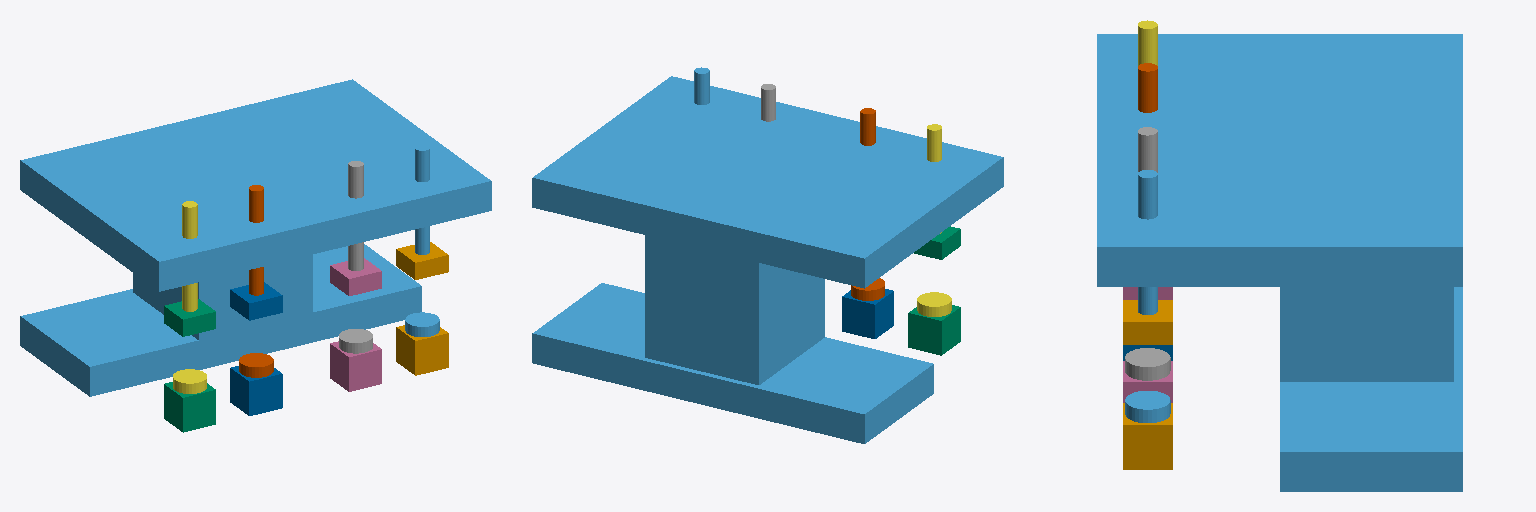
URDF robot description (whac-a-mole):
<?xml version="1.0"?>
<robot name="whac-a-mole">

    <gazebo>
    <plugin name="gazebo_ros_control" filename="libgazebo_ros_control.so">
        <robotNamespace>/</robotNamespace>
        <allow_free_joints>true</allow_free_joints>
    </plugin>
    </gazebo>

    <link name="world" />

    <joint name="world_joint"  type="fixed">
        <origin xyz="5.5 4 0" rpy="0 0 0" />
        <parent link="world"/>
        <child link="base"/>
    </joint>

    <link name="base">
        <visual>
            <geometry>
                <mesh filename="package://whac-a-mole_description/meshes/Base.stl"/>
            </geometry>
        </visual>
        <inertial>
            <mass value="1.0"/>
            <inertia ixx="0.001" ixy="0.0" ixz="0.0" 
                     iyy="0.001" iyz="0.0" 
                     izz="0.001"/>
        </inertial>
    </link>

    <!--|-|-|-|-|-|-|-|-|-|-|-|-->
    <!--|-|LINEAR  ACTUATORS|-|-->
    <!--|-|-|-|-|-|-|-|-|-|-|-|-->

    <!-- Linear Actuator 1 -->
    <link name="linear_actuator_1">
        <visual>
            <geometry>
                <box size="1 1 0.5"/>
            </geometry>
        </visual>
        <collision>
            <geometry>
                <box size="1 1 0.5"/>
            </geometry>
        </collision>
        <inertial>
            <mass value="1.0"/>
            <inertia ixx="0.001" ixy="0.0" ixz="0.0" 
                     iyy="0.001" iyz="0.0" 
                     izz="0.001"/>
        </inertial>
    </link>

    <link name="slider_link_1">
        <visual>
            <geometry>
                <cylinder radius="0.2" length="3.00"/>
            </geometry>
        </visual>
        <inertial>
            <mass value="0.5"/>
            <inertia ixx="0.001" ixy="0.0" ixz="0.0" 
                     iyy="0.001" iyz="0.0" 
                     izz="0.0001"/>
        </inertial>
    </link>

    <joint name="slider_joint_1" type="prismatic">
        <parent link="world"/>
        <child link="slider_link_1"/>
        <origin xyz="-3 -4 4.75" rpy="0 0 0"/>
        <axis xyz="0 0 1"/>
        <limit effort="100.0" lower="-2.25" upper="0.4" velocity="1.0"/>
        <dynamics damping="0.7" friction="0.0"/>
    </joint>
    
    <joint name="base_to_slider_link_1" type="fixed">
        <parent link="slider_link_1"/>
        <child link="linear_actuator_1"/>
        <origin xyz="0 0 -1.75" rpy="0 0 0"/>
    </joint>

    <!-- Linear Actuator 2 -->
    <link name="linear_actuator_2">
        <visual>
            <geometry>
                <box size="1 1 0.5"/>
            </geometry>
        </visual>
        <collision>
            <geometry>
                <box size="1 1 0.5"/>
            </geometry>
        </collision>
        <inertial>
            <mass value="1.0"/>
            <inertia ixx="0.001" ixy="0.0" ixz="0.0" 
                     iyy="0.001" iyz="0.0" 
                     izz="0.001"/>
        </inertial>
    </link>

    <link name="slider_link_2">
        <visual>
            <geometry>
                <cylinder radius="0.2" length="3.00"/>
            </geometry>
        </visual>
        <inertial>
            <mass value="0.5"/>
            <inertia ixx="0.001" ixy="0.0" ixz="0.0" 
                     iyy="0.001" iyz="0.0" 
                     izz="0.0001"/>
        </inertial>
    </link>

    <joint name="slider_joint_2" type="prismatic">
        <parent link="world"/>
        <child link="slider_link_2"/>
        <origin xyz="-1 -4 4.75" rpy="0 0 0"/>
        <axis xyz="0 0 1"/>
        <limit effort="100.0" lower="-2.25" upper="0.4" velocity="1.0"/>
        <dynamics damping="0.7" friction="0.0"/>
    </joint>
    
    <joint name="base_to_slider_link_2" type="fixed">
        <parent link="slider_link_2"/>
        <child link="linear_actuator_2"/>
        <origin xyz="0 0 -1.75" rpy="0 0 0"/>
    </joint>

    <!-- Linear Actuator 3 -->
    <link name="linear_actuator_3">
        <visual>
            <geometry>
                <box size="1 1 0.5"/>
            </geometry>
        </visual>
        <collision>
            <geometry>
                <box size="1 1 0.5"/>
            </geometry>
        </collision>
        <inertial>
            <mass value="1.0"/>
            <inertia ixx="0.001" ixy="0.0" ixz="0.0" 
                     iyy="0.001" iyz="0.0" 
                     izz="0.001"/>
        </inertial>
    </link>

    <link name="slider_link_3">
        <visual>
            <geometry>
                <cylinder radius="0.2" length="3.00"/>
            </geometry>
        </visual>
        <inertial>
            <mass value="0.5"/>
            <inertia ixx="0.001" ixy="0.0" ixz="0.0" 
                     iyy="0.001" iyz="0.0" 
                     izz="0.0001"/>
        </inertial>
    </link>

    <joint name="slider_joint_3" type="prismatic">
        <parent link="world"/>
        <child link="slider_link_3"/>
        <origin xyz="2 -4 4.75" rpy="0 0 0"/>
        <axis xyz="0 0 1"/>
        <limit effort="100.0" lower="-2.25" upper="0.4" velocity="1.0"/>
        <dynamics damping="0.7" friction="0.0"/>
    </joint>
    
    <joint name="base_to_slider_link_3" type="fixed">
        <parent link="slider_link_3"/>
        <child link="linear_actuator_3"/>
        <origin xyz="0 0 -1.75" rpy="0 0 0"/>
    </joint>

    <!-- Linear Actuator 4 -->
    <link name="linear_actuator_4">
        <visual>
            <geometry>
                <box size="1 1 0.5"/>
            </geometry>
        </visual>
        <collision>
            <geometry>
                <box size="1 1 0.5"/>
            </geometry>
        </collision>
        <inertial>
            <mass value="1.0"/>
            <inertia ixx="0.001" ixy="0.0" ixz="0.0" 
                     iyy="0.001" iyz="0.0" 
                     izz="0.001"/>
        </inertial>
    </link>

    <link name="slider_link_4">
        <visual>
            <geometry>
                <cylinder radius="0.2" length="3.00"/>
            </geometry>
        </visual>
        <inertial>
            <mass value="0.5"/>
            <inertia ixx="0.001" ixy="0.0" ixz="0.0" 
                     iyy="0.001" iyz="0.0" 
                     izz="0.0001"/>
        </inertial>
    </link>

    <joint name="slider_joint_4" type="prismatic">
        <parent link="world"/>
        <child link="slider_link_4"/>
        <origin xyz="4 -4 4.75" rpy="0 0 0"/>
        <axis xyz="0 0 1"/>
        <limit effort="100.0" lower="-2.25" upper="0.4" velocity="1.0"/>
        <dynamics damping="0.7" friction="0.0"/>
    </joint>
    
    <joint name="base_to_slider_link_4" type="fixed">
        <parent link="slider_link_4"/>
        <child link="linear_actuator_4"/>
        <origin xyz="0 0 -1.75" rpy="0 0 0"/>
    </joint>

    <!-- Transmission for slider_joint_1 -->
    <transmission name="slider_joint_1_trans">
        <type>transmission_interface/SimpleTransmission</type>
        <joint name="slider_joint_1">
            <hardwareInterface>hardware_interface/EffortJointInterface</hardwareInterface>
        </joint>
        <actuator name="slider_joint_1_motor">
            <mechanicalReduction>1</mechanicalReduction>
        </actuator>
    </transmission>

    <!-- Transmission for slider_joint_2 -->
    <transmission name="slider_joint_2_trans">
        <type>transmission_interface/SimpleTransmission</type>
        <joint name="slider_joint_2">
            <hardwareInterface>hardware_interface/EffortJointInterface</hardwareInterface>
        </joint>
        <actuator name="slider_joint_2_motor">
            <mechanicalReduction>1</mechanicalReduction>
        </actuator>
    </transmission>

    <!-- Transmission for slider_joint_3 -->
    <transmission name="slider_joint_3_trans">
        <type>transmission_interface/SimpleTransmission</type>
        <joint name="slider_joint_3">
            <hardwareInterface>hardware_interface/EffortJointInterface</hardwareInterface>
        </joint>
        <actuator name="slider_joint_3_motor">
            <mechanicalReduction>1</mechanicalReduction>
        </actuator>
    </transmission>

    <!-- Transmission for slider_joint_4 -->
    <transmission name="slider_joint_4_trans">
        <type>transmission_interface/SimpleTransmission</type>
        <joint name="slider_joint_4">
            <hardwareInterface>hardware_interface/EffortJointInterface</hardwareInterface>
        </joint>
        <actuator name="slider_joint_4_motor">
            <mechanicalReduction>1</mechanicalReduction>
        </actuator>
    </transmission>

    <!--|-|-|-|-|-|-|-|-|-|-|-|-->
    <!--|-|-|-| BUTTONS |-|-|-|-->
    <!--|-|-|-|-|-|-|-|-|-|-|-|-->

    <!-- Button 1 -->

    <!-- Base Link -->
    <link name="button_base_1">
        <visual>
            <geometry>
                <box size="1 1 1"/>
            </geometry>
        </visual>
        <inertial>
            <mass value="0.1"/>
            <inertia ixx="0.0001" ixy="0" ixz="0"
                     iyy="0.0001" iyz="0"
                     izz="0.0001"/>
        </inertial>
    </link>
    
    <!-- Button Link -->
    <link name="button_top_1">
        <visual>
            <geometry>
                <cylinder radius="0.45" length="0.3"/>
            </geometry>
        </visual>
        <collision>
            <geometry>
                <cylinder radius="0.45" length="0.3"/>
            </geometry>
        </collision>
        <inertial>
            <mass value="0.1"/>
            <inertia ixx="0.00005" ixy="0" ixz="0"
                     iyy="0.00005" iyz="0"
                     izz="0.00005"/>
        </inertial>
    </link>
    
    <!-- Prismatic Joint -->
    <joint name="button_joint_1" type="prismatic">
        <parent link="button_base_1"/>
        <child link="button_top_1"/>
        <origin xyz="0 0 0.65" rpy="0 0 0"/>
        <axis xyz="0 0 1"/>
        <limit lower="-0.5" upper="0" effort="10" velocity="0.1"/>
        <dynamics damping="0.1" friction="0.0"/>
    </joint>
    
    <!-- Fixed Joint to Attach Button Base to World -->
    <joint name="button_1_base_to_world" type="fixed">
        <parent link="world"/>
        <child link="button_base_1"/>
        <origin xyz="-3 -4 0.5" rpy="0 0 0"/>
    </joint>
    
    <!-- Gazebo Extension for Spring Effect -->
    <gazebo reference="button_joint_1">
        <spring_stiffness>100.0</spring_stiffness>
        <spring_reference>0.0</spring_reference>
        <damping>0.5</damping>
    </gazebo>

    <!-- Transmission for button_joint_1 -->
    <transmission name="button_joint_1_trans">
        <type>transmission_interface/SimpleTransmission</type>
        <joint name="button_joint_1">
            <hardwareInterface>hardware_interface/EffortJointInterface</hardwareInterface>
        </joint>
        <actuator name="button_joint_1_motor">
            <mechanicalReduction>1</mechanicalReduction>
        </actuator>
    </transmission>

    <!-- Button 2 -->

    <!-- Base Link -->
    <link name="button_base_2">
        <visual>
            <geometry>
                <box size="1 1 1"/>
            </geometry>
        </visual>
        <inertial>
            <mass value="0.1"/>
            <inertia ixx="0.0001" ixy="0" ixz="0"
                     iyy="0.0001" iyz="0"
                     izz="0.0001"/>
        </inertial>
    </link>
    
    <!-- Button Link -->
    <link name="button_top_2">
        <visual>
            <geometry>
                <cylinder radius="0.45" length="0.3"/>
            </geometry>
        </visual>
        <collision>
            <geometry>
                <cylinder radius="0.45" length="0.3"/>
            </geometry>
        </collision>
        <inertial>
            <mass value="0.1"/>
            <inertia ixx="0.00005" ixy="0" ixz="0"
                     iyy="0.00005" iyz="0"
                     izz="0.00005"/>
        </inertial>
    </link>
    
    <!-- Prismatic Joint -->
    <joint name="button_joint_2" type="prismatic">
        <parent link="button_base_2"/>
        <child link="button_top_2"/>
        <origin xyz="0 0 0.65" rpy="0 0 0"/>
        <axis xyz="0 0 1"/>
        <limit lower="-0.5" upper="0" effort="10" velocity="0.1"/>
        <dynamics damping="0.1" friction="0.0"/>
    </joint>
    
    <!-- Fixed Joint to Attach Button Base to World -->
    <joint name="button_2_base_to_world" type="fixed">
        <parent link="world"/>
        <child link="button_base_2"/>
        <origin xyz="-1 -4 0.5" rpy="0 0 0"/>
    </joint>
    
    <!-- Gazebo Extension for Spring Effect -->
    <gazebo reference="button_joint_2">
        <spring_stiffness>100.0</spring_stiffness>
        <spring_reference>0.0</spring_reference>
        <damping>0.5</damping>
    </gazebo>

    <!-- Transmission for button_joint_2 -->
    <transmission name="button_joint_2_trans">
        <type>transmission_interface/SimpleTransmission</type>
        <joint name="button_joint_2">
            <hardwareInterface>hardware_interface/EffortJointInterface</hardwareInterface>
        </joint>
        <actuator name="button_joint_2_motor">
            <mechanicalReduction>1</mechanicalReduction>
        </actuator>
    </transmission>

    <!-- Button 3 -->

    <!-- Base Link -->
    <link name="button_base_3">
        <visual>
            <geometry>
                <box size="1 1 1"/>
            </geometry>
        </visual>
        <inertial>
            <mass value="0.1"/>
            <inertia ixx="0.0001" ixy="0" ixz="0"
                     iyy="0.0001" iyz="0"
                     izz="0.0001"/>
        </inertial>
    </link>
    
    <!-- Button Link -->
    <link name="button_top_3">
        <visual>
            <geometry>
                <cylinder radius="0.45" length="0.3"/>
            </geometry>
        </visual>
        <collision>
            <geometry>
                <cylinder radius="0.45" length="0.3"/>
            </geometry>
        </collision>
        <inertial>
            <mass value="0.1"/>
            <inertia ixx="0.00005" ixy="0" ixz="0"
                     iyy="0.00005" iyz="0"
                     izz="0.00005"/>
        </inertial>
    </link>
    
    <!-- Prismatic Joint -->
    <joint name="button_joint_3" type="prismatic">
        <parent link="button_base_3"/>
        <child link="button_top_3"/>
        <origin xyz="0 0 0.65" rpy="0 0 0"/>
        <axis xyz="0 0 1"/>
        <limit lower="-0.5" upper="0" effort="10" velocity="0.1"/>
        <dynamics damping="0.1" friction="0.0"/>
    </joint>
    
    <!-- Fixed Joint to Attach Button Base to World -->
    <joint name="button_3_base_to_world" type="fixed">
        <parent link="world"/>
        <child link="button_base_3"/>
        <origin xyz="2 -4 0.5" rpy="0 0 0"/>
    </joint>
    
    <!-- Gazebo Extension for Spring Effect -->
    <gazebo reference="button_joint_3">
        <spring_stiffness>100.0</spring_stiffness>
        <spring_reference>0.0</spring_reference>
        <damping>0.5</damping>
    </gazebo>

    <!-- Transmission for button_joint_3 -->
    <transmission name="button_joint_3_trans">
        <type>transmission_interface/SimpleTransmission</type>
        <joint name="button_joint_3">
            <hardwareInterface>hardware_interface/EffortJointInterface</hardwareInterface>
        </joint>
        <actuator name="button_joint_3_motor">
            <mechanicalReduction>1</mechanicalReduction>
        </actuator>
    </transmission>

    <!-- Button 4 -->

    <!-- Base Link -->
    <link name="button_base_4">
        <visual>
            <geometry>
                <box size="1 1 1"/>
            </geometry>
        </visual>
        <inertial>
            <mass value="0.1"/>
            <inertia ixx="0.0001" ixy="0" ixz="0"
                     iyy="0.0001" iyz="0"
                     izz="0.0001"/>
        </inertial>
    </link>
    
    <!-- Button Link -->
    <link name="button_top_4">
        <visual>
            <geometry>
                <cylinder radius="0.45" length="0.3"/>
            </geometry>
        </visual>
        <collision>
            <geometry>
                <cylinder radius="0.45" length="0.3"/>
            </geometry>
        </collision>
        <inertial>
            <mass value="0.1"/>
            <inertia ixx="0.00005" ixy="0" ixz="0"
                     iyy="0.00005" iyz="0"
                     izz="0.00005"/>
        </inertial>
    </link>
    
    <!-- Prismatic Joint -->
    <joint name="button_joint_4" type="prismatic">
        <parent link="button_base_4"/>
        <child link="button_top_4"/>
        <origin xyz="0 0 0.65" rpy="0 0 0"/>
        <axis xyz="0 0 1"/>
        <limit lower="-0.5" upper="0" effort="10" velocity="0.1"/>
        <dynamics damping="0.1" friction="0.0"/>
    </joint>
    
    <!-- Fixed Joint to Attach Button Base to World -->
    <joint name="button_4_base_to_world" type="fixed">
        <parent link="world"/>
        <child link="button_base_4"/>
        <origin xyz="4 -4 0.5" rpy="0 0 0"/>
    </joint>
    
    <!-- Gazebo Extension for Spring Effect -->
    <gazebo reference="button_joint_4">
        <spring_stiffness>100.0</spring_stiffness>
        <spring_reference>0.0</spring_reference>
        <damping>0.5</damping>
    </gazebo>

    <!-- Transmission for button_joint_4 -->
    <transmission name="button_joint_4_trans">
        <type>transmission_interface/SimpleTransmission</type>
        <joint name="button_joint_4">
            <hardwareInterface>hardware_interface/EffortJointInterface</hardwareInterface>
        </joint>
        <actuator name="button_joint_4_motor">
            <mechanicalReduction>1</mechanicalReduction>
        </actuator>
    </transmission>
</robot>

--- What the picture shows (computed from the rendered views, not written in the file) ---
3 views of the same robot in one strip: view 1: azimuth 30°, elevation 25°; view 2: azimuth 150°, elevation 25°; view 3: azimuth 270°, elevation 25° (orthographic).
Robot: whac-a-mole — 18 links, 17 joints (8 prismatic, 9 fixed); root link world; default pose: every joint at zero.
Visible links, largest first — view 1: base, button_base_4, button_base_2, button_base_1, button_base_3, linear_actuator_2, linear_actuator_4, linear_actuator_1, linear_actuator_3, slider_link_1, slider_link_3, slider_link_2 (+5 smaller); view 2: base, button_base_1, button_base_2, linear_actuator_1, button_top_1, slider_link_2, slider_link_4, slider_link_1, slider_link_3, button_top_2; view 3: base, button_base_4, linear_actuator_4, slider_link_4, button_top_3, button_top_4, slider_link_2, slider_link_3, slider_link_1, button_base_3.
Link boxes in pixels (x1=…): base: x1=20, y1=79, x2=491, y2=396; button_base_4: x1=396, y1=325, x2=448, y2=375; button_base_2: x1=230, y1=366, x2=282, y2=415; button_base_1: x1=164, y1=382, x2=215, y2=432; button_base_3: x1=330, y1=341, x2=381, y2=391; linear_actuator_2: x1=230, y1=282, x2=282, y2=320; linear_actuator_4: x1=396, y1=242, x2=448, y2=279; linear_actuator_1: x1=164, y1=299, x2=215, y2=336; linear_actuator_3: x1=330, y1=258, x2=381, y2=295; slider_link_1: x1=182, y1=201, x2=197, y2=311; slider_link_3: x1=348, y1=161, x2=363, y2=270; slider_link_2: x1=249, y1=185, x2=263, y2=295; base: x1=532, y1=76, x2=1003, y2=443; button_base_1: x1=908, y1=305, x2=960, y2=355; button_base_2: x1=842, y1=289, x2=893, y2=338; linear_actuator_1: x1=914, y1=226, x2=960, y2=259; button_top_1: x1=917, y1=292, x2=951, y2=316; slider_link_2: x1=860, y1=108, x2=875, y2=145; slider_link_4: x1=694, y1=67, x2=709, y2=104; slider_link_1: x1=927, y1=124, x2=941, y2=233; slider_link_3: x1=761, y1=84, x2=775, y2=121; button_top_2: x1=851, y1=278, x2=884, y2=300; base: x1=1097, y1=34, x2=1462, y2=491; button_base_4: x1=1123, y1=403, x2=1172, y2=469; linear_actuator_4: x1=1123, y1=300, x2=1172, y2=344; slider_link_4: x1=1138, y1=170, x2=1157, y2=314; button_top_3: x1=1125, y1=348, x2=1170, y2=380; button_top_4: x1=1125, y1=391, x2=1170, y2=422; slider_link_2: x1=1138, y1=63, x2=1157, y2=112; slider_link_3: x1=1138, y1=127, x2=1157, y2=172; slider_link_1: x1=1138, y1=20, x2=1157, y2=65; button_base_3: x1=1123, y1=361, x2=1172, y2=402.
Bounding box of the posed robot: 10 × 7.24 × 6.25 m (x, y, z).
Meshes: 1 distinct files referenced, 1 mesh visuals loaded (1 binary STL).